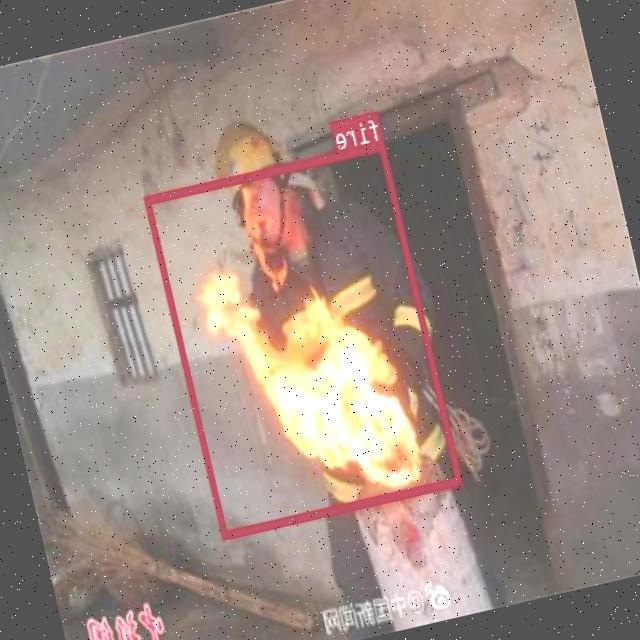fire: (144, 138, 463, 538)
